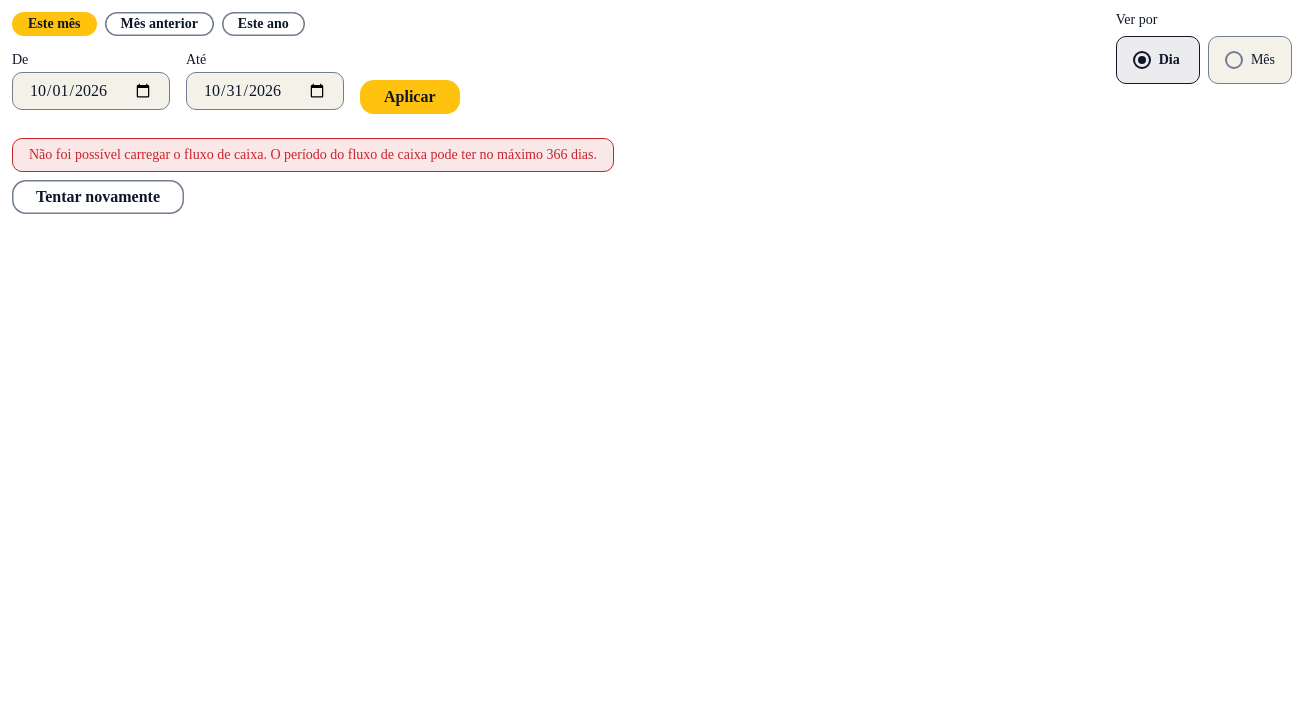
it: FluxoCaixa: estados › erro mostra a mensagem do back e deixa tentar de novo
This screenshot has width=1292, height=718.
Expected: the message shows "Não foi possível carregar o fluxo de caixa. O período do fluxo de caixa pode ter no máximo 366 dias.", [12,138,614,172]
Click the button "Tentar novamente": (98, 197) [12,180,184,214]
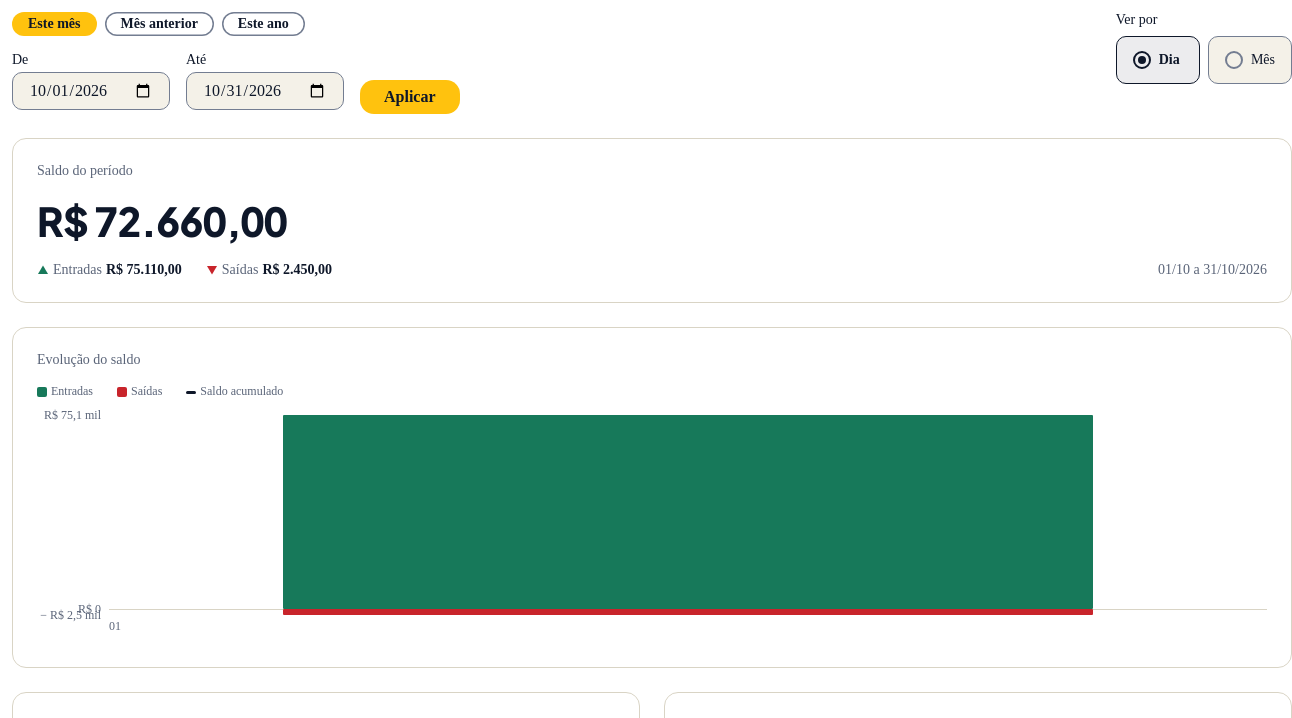
Result: the heading "Saldo do período" is shown at [37,163,133,178]
